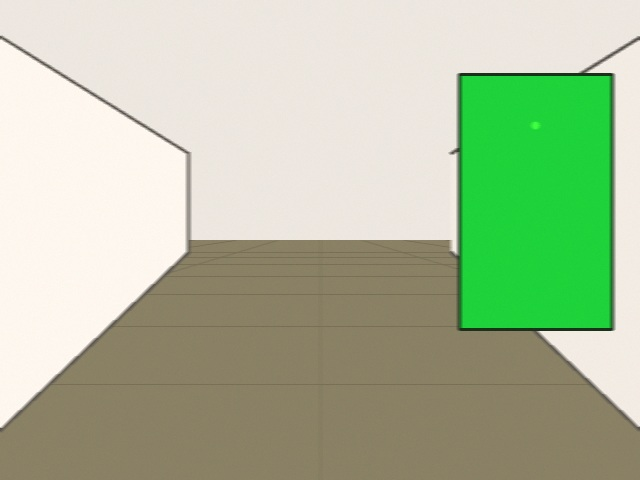charging_station: (459, 74, 612, 329)
